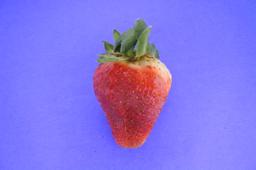red strawberry: (92, 35, 173, 149)
